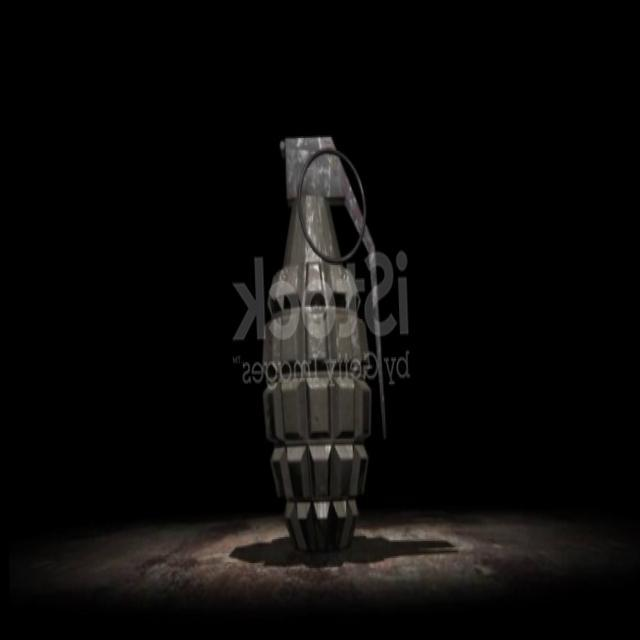grenade: (254, 130, 391, 558)
